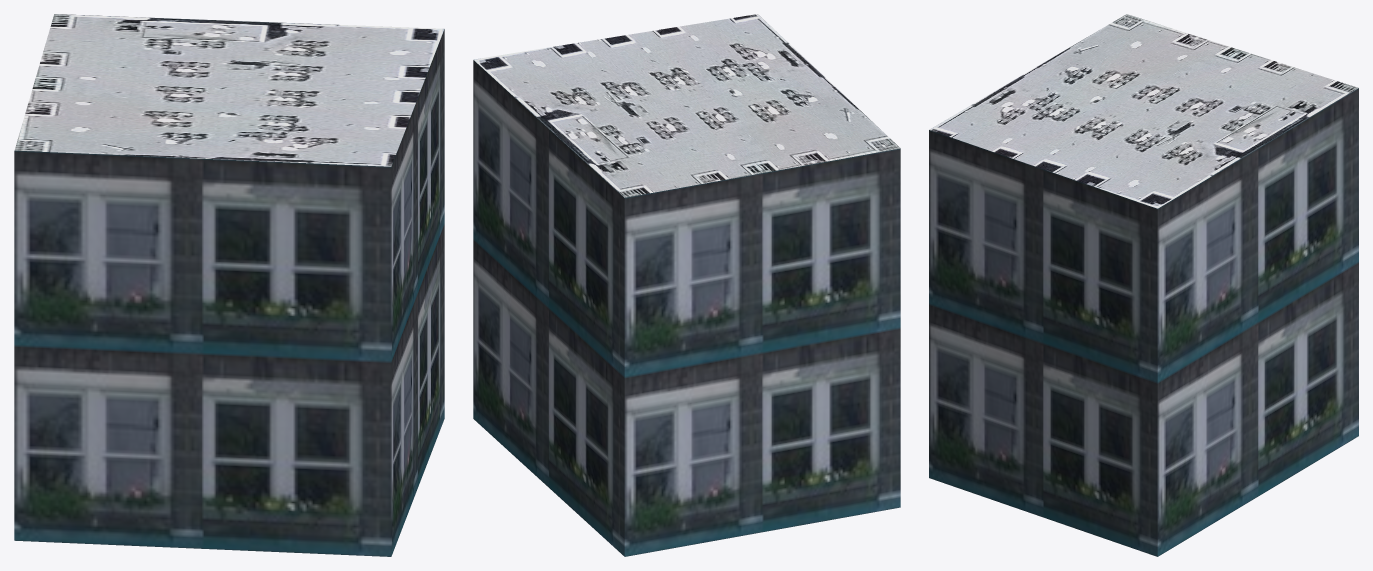
File: ResTex__3775.fbx
3 views of the same model, side by side, from view 1: azimuth 30°, elevation 25°; view 2: azimuth 150°, elevation 25°; view 3: azimuth 270°, elevation 25° (orthographic). The views are drawn at different scales.
Parts seen in each view (by area): view 1: CityEngineMaterial_11_m, CityEngineMaterial_4_m; view 2: CityEngineMaterial_11_m, CityEngineMaterial_4_m; view 3: CityEngineMaterial_11_m, CityEngineMaterial_4_m.
Boxes of the visible parts, x1,y1,x2,y2 form: CityEngineMaterial_11_m: [14, 29, 444, 556]; CityEngineMaterial_4_m: [14, 14, 444, 166]; CityEngineMaterial_11_m: [473, 60, 900, 556]; CityEngineMaterial_4_m: [473, 14, 900, 197]; CityEngineMaterial_11_m: [929, 88, 1358, 556]; CityEngineMaterial_4_m: [929, 14, 1358, 208].
Size of the model in its own units: 7.2 by 6 by 6.71.
2 materials, 2 textured.
